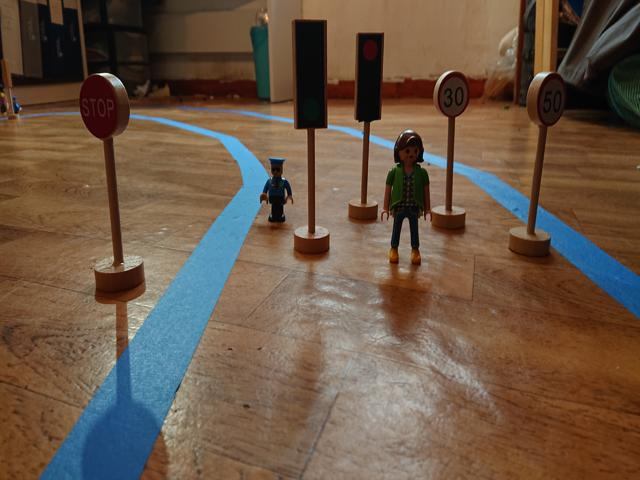30 speed sign: (437, 70, 471, 120)
50 speed sign: (536, 75, 567, 128)
green light: (298, 26, 323, 126)
person: (382, 130, 434, 264), (257, 153, 293, 224)
red light: (355, 35, 383, 116)
stop sign: (79, 74, 120, 139)
